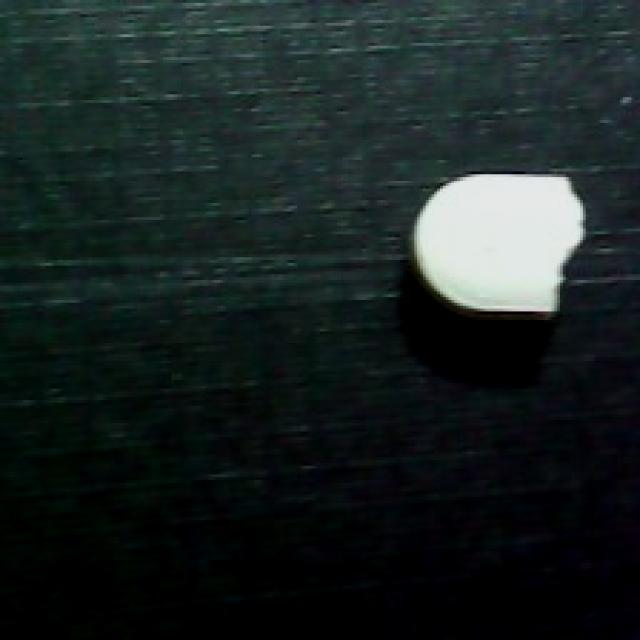defected: (409, 160, 591, 331)
